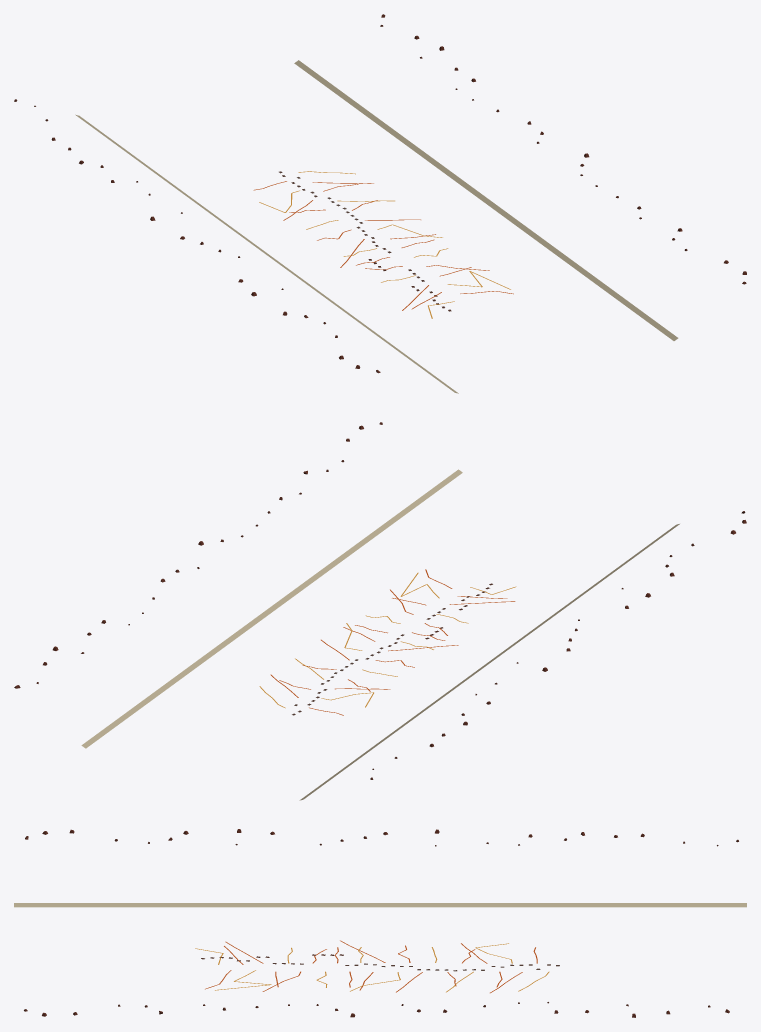
The model's file is lava_channel_detail2.glb.
The picture shows the model from 3 angles, top to bottom: view 1: azimuth 30°, elevation 25°; view 2: azimuth 150°, elevation 25°; view 3: azimuth 270°, elevation 25°; orthographic projection. The views are drawn at different scales.
Visible parts, largest first — view 1: lava_channel_detail2; view 2: lava_channel_detail2; view 3: lava_channel_detail2.
Part boxes in pixels (x1,y1,x2,y2): lava_channel_detail2: (14, 14, 746, 393); lava_channel_detail2: (14, 422, 746, 800); lava_channel_detail2: (14, 829, 746, 1017).
Size of the model in its own units: 34.95 by 4.01 by 58.
